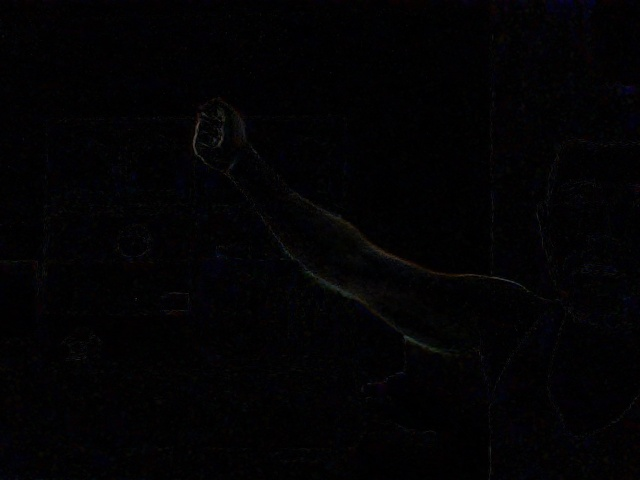hand_fi: (186, 82, 266, 167)
